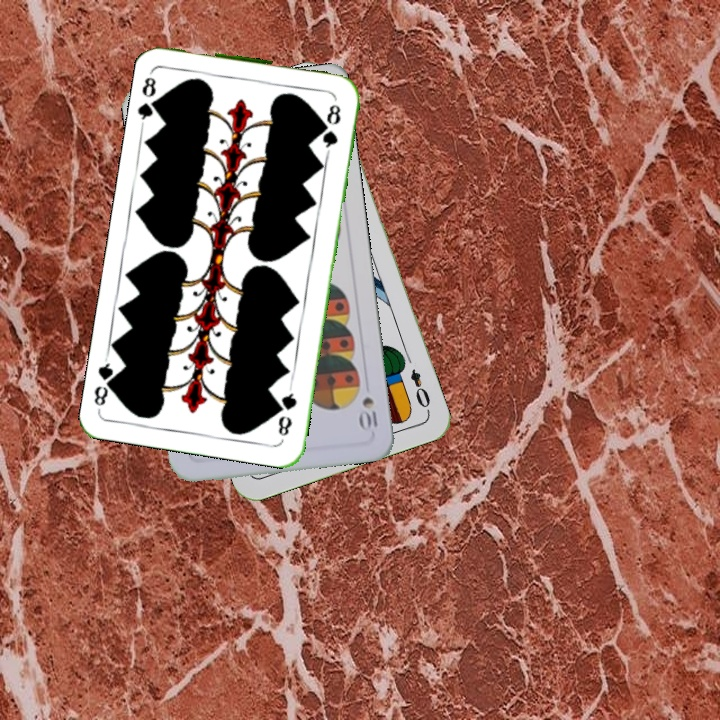EO: (406, 365, 433, 415)
G8: (134, 67, 165, 126), (274, 383, 299, 439)
S10: (356, 393, 381, 434)
